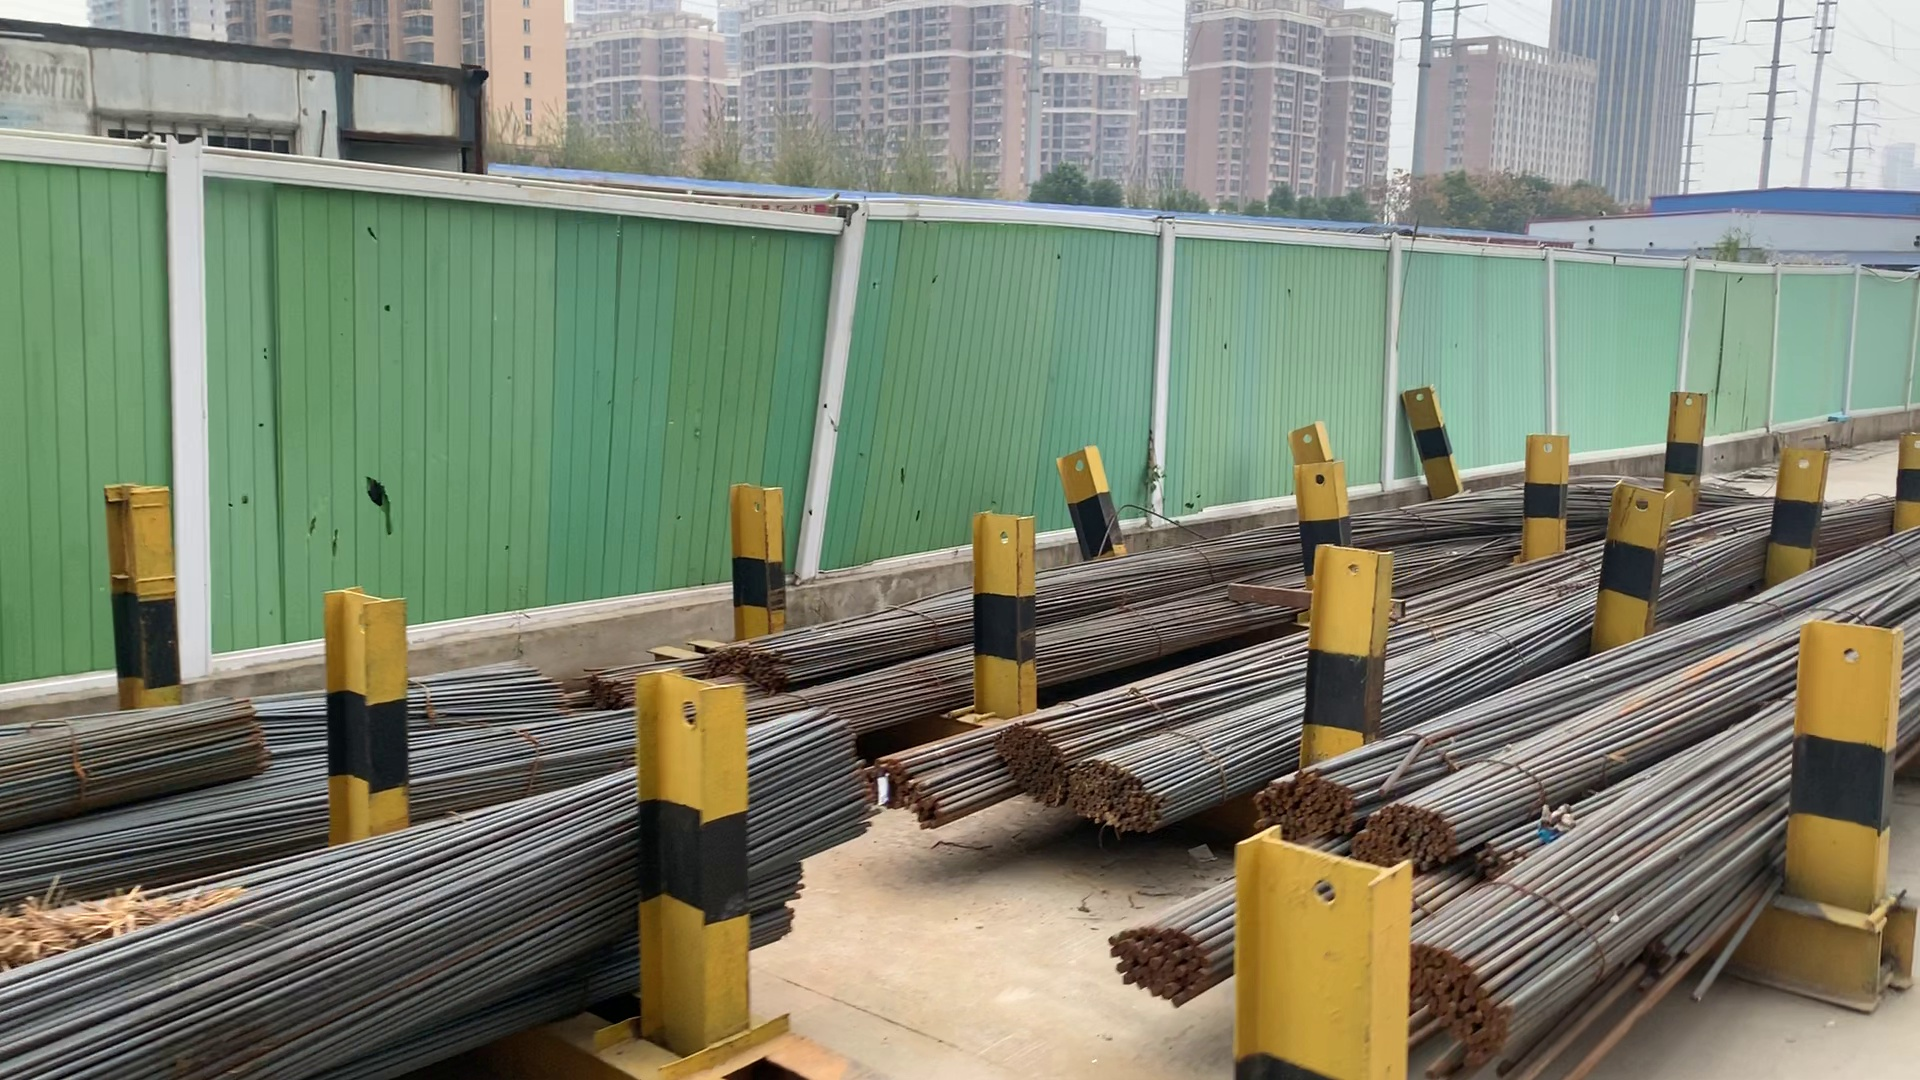rebar: (1411, 931, 1506, 1062), (1106, 919, 1207, 1010), (1249, 770, 1350, 843), (996, 727, 1065, 812), (1073, 767, 1160, 833), (1358, 810, 1455, 869), (866, 756, 938, 827), (708, 638, 789, 688), (591, 673, 632, 708)
